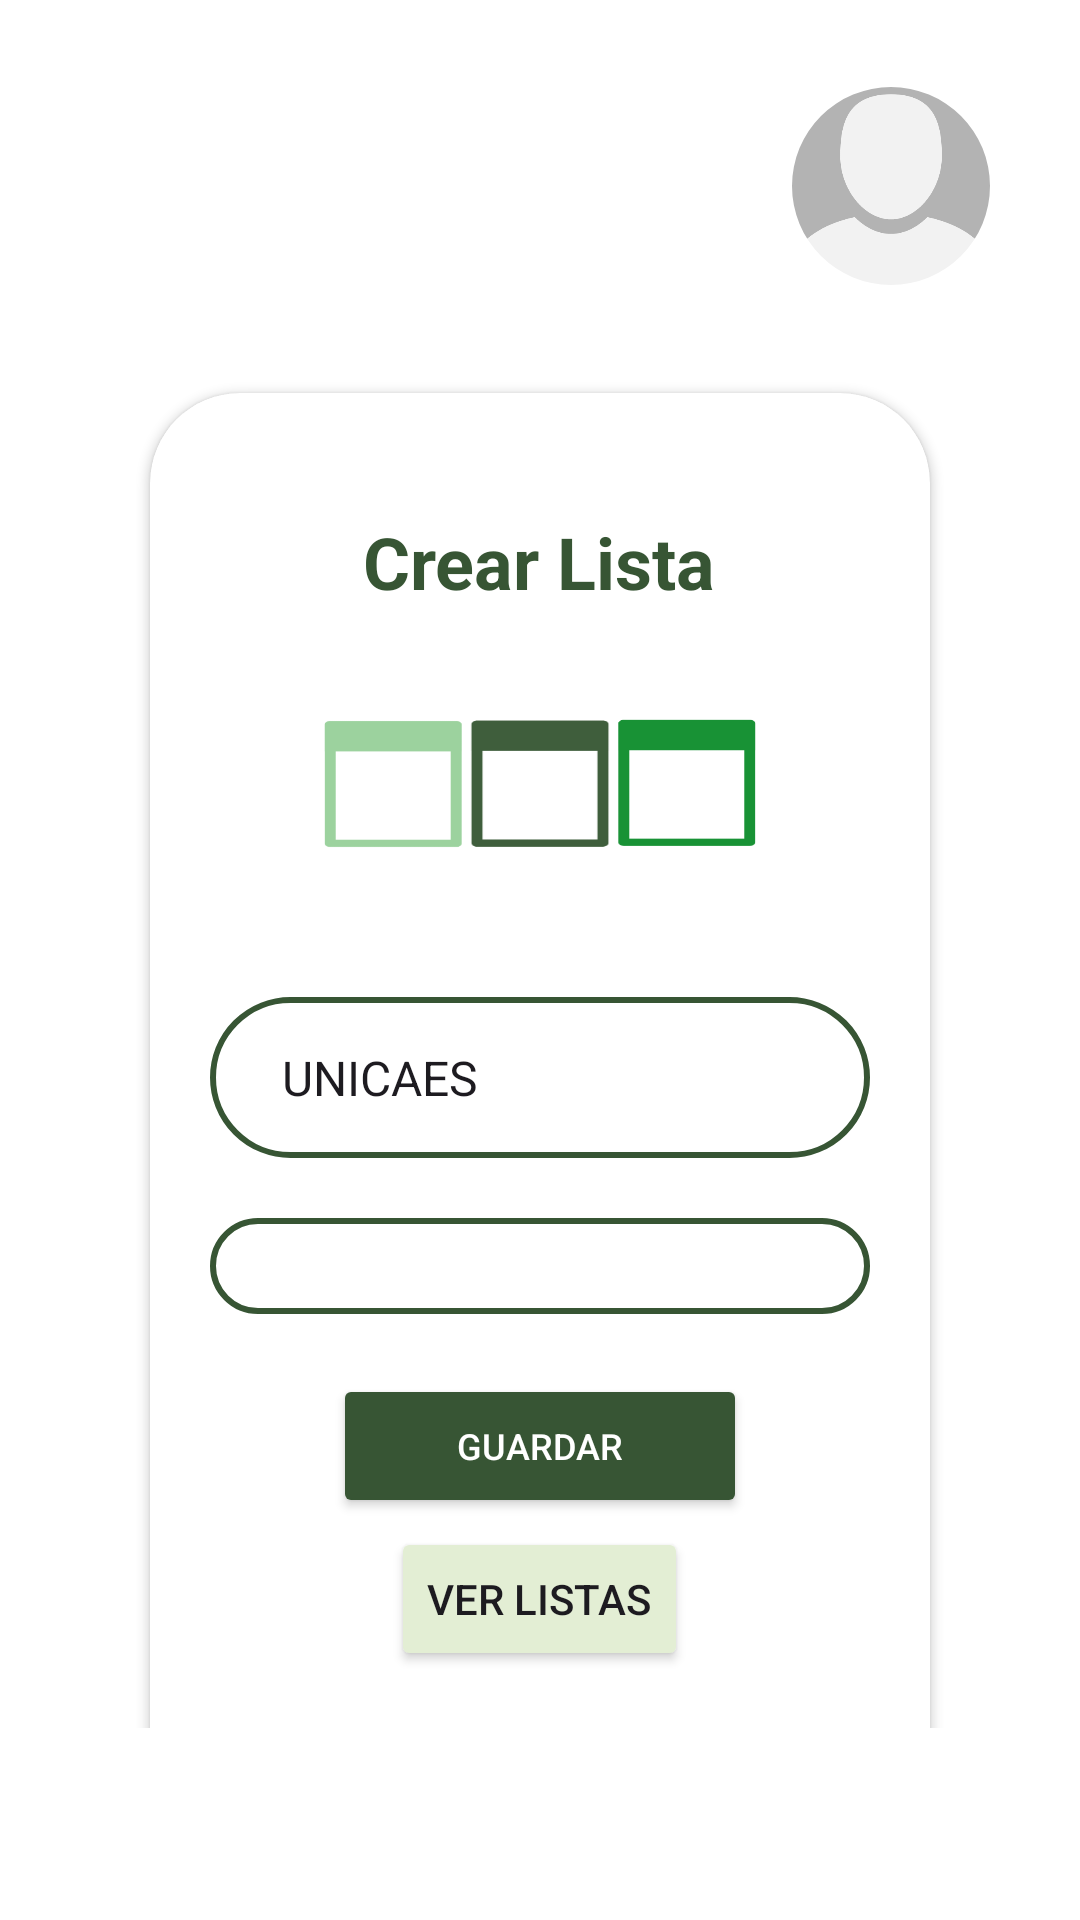

Named icons in this screenshot (1080px x 1920px) and their centers, point (x, y):
profileimage: point (891, 186)
